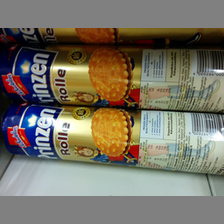chocolate: (1, 103, 224, 177), (1, 45, 224, 113)
